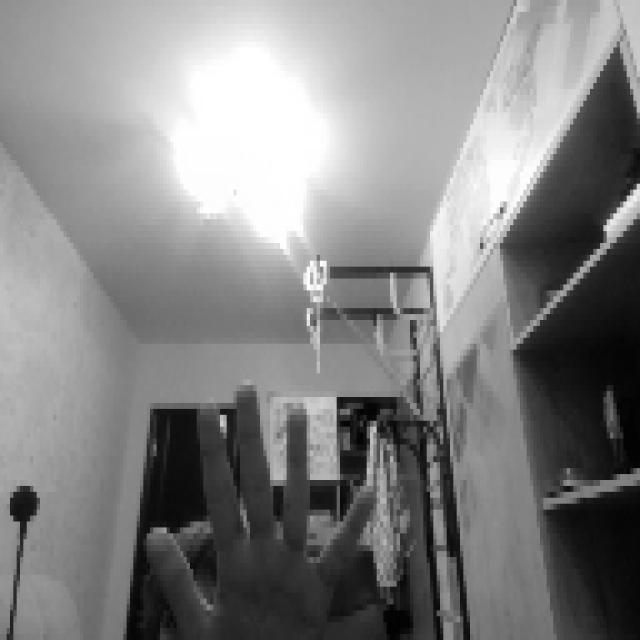hand: (143, 373, 370, 634)
